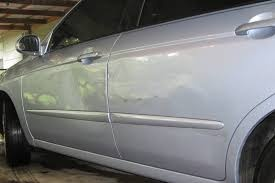Dent: (56, 66, 112, 114)
